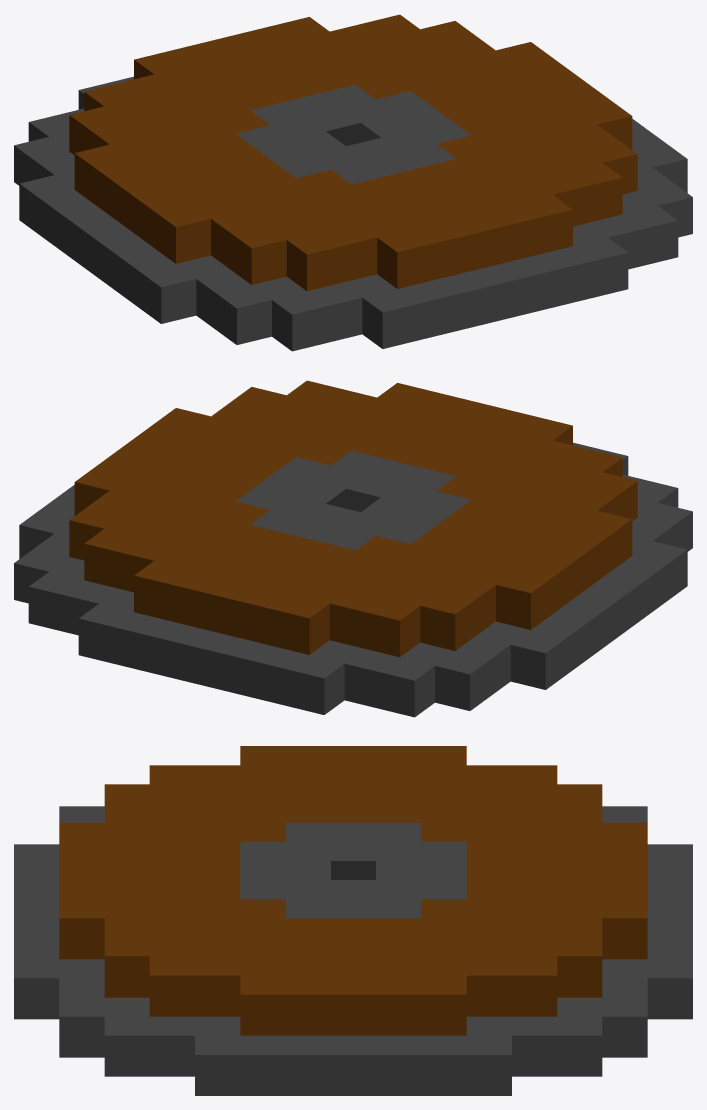
File: shield-round-wood.obj
3 views of the same model, one above another, from view 1: azimuth 30°, elevation 25°; view 2: azimuth 150°, elevation 25°; view 3: azimuth 270°, elevation 25° (orthographic). The views are drawn at different scales.
Bounding box in the file's own units: 15 × 2 × 15.
1 material, 1 textured.
